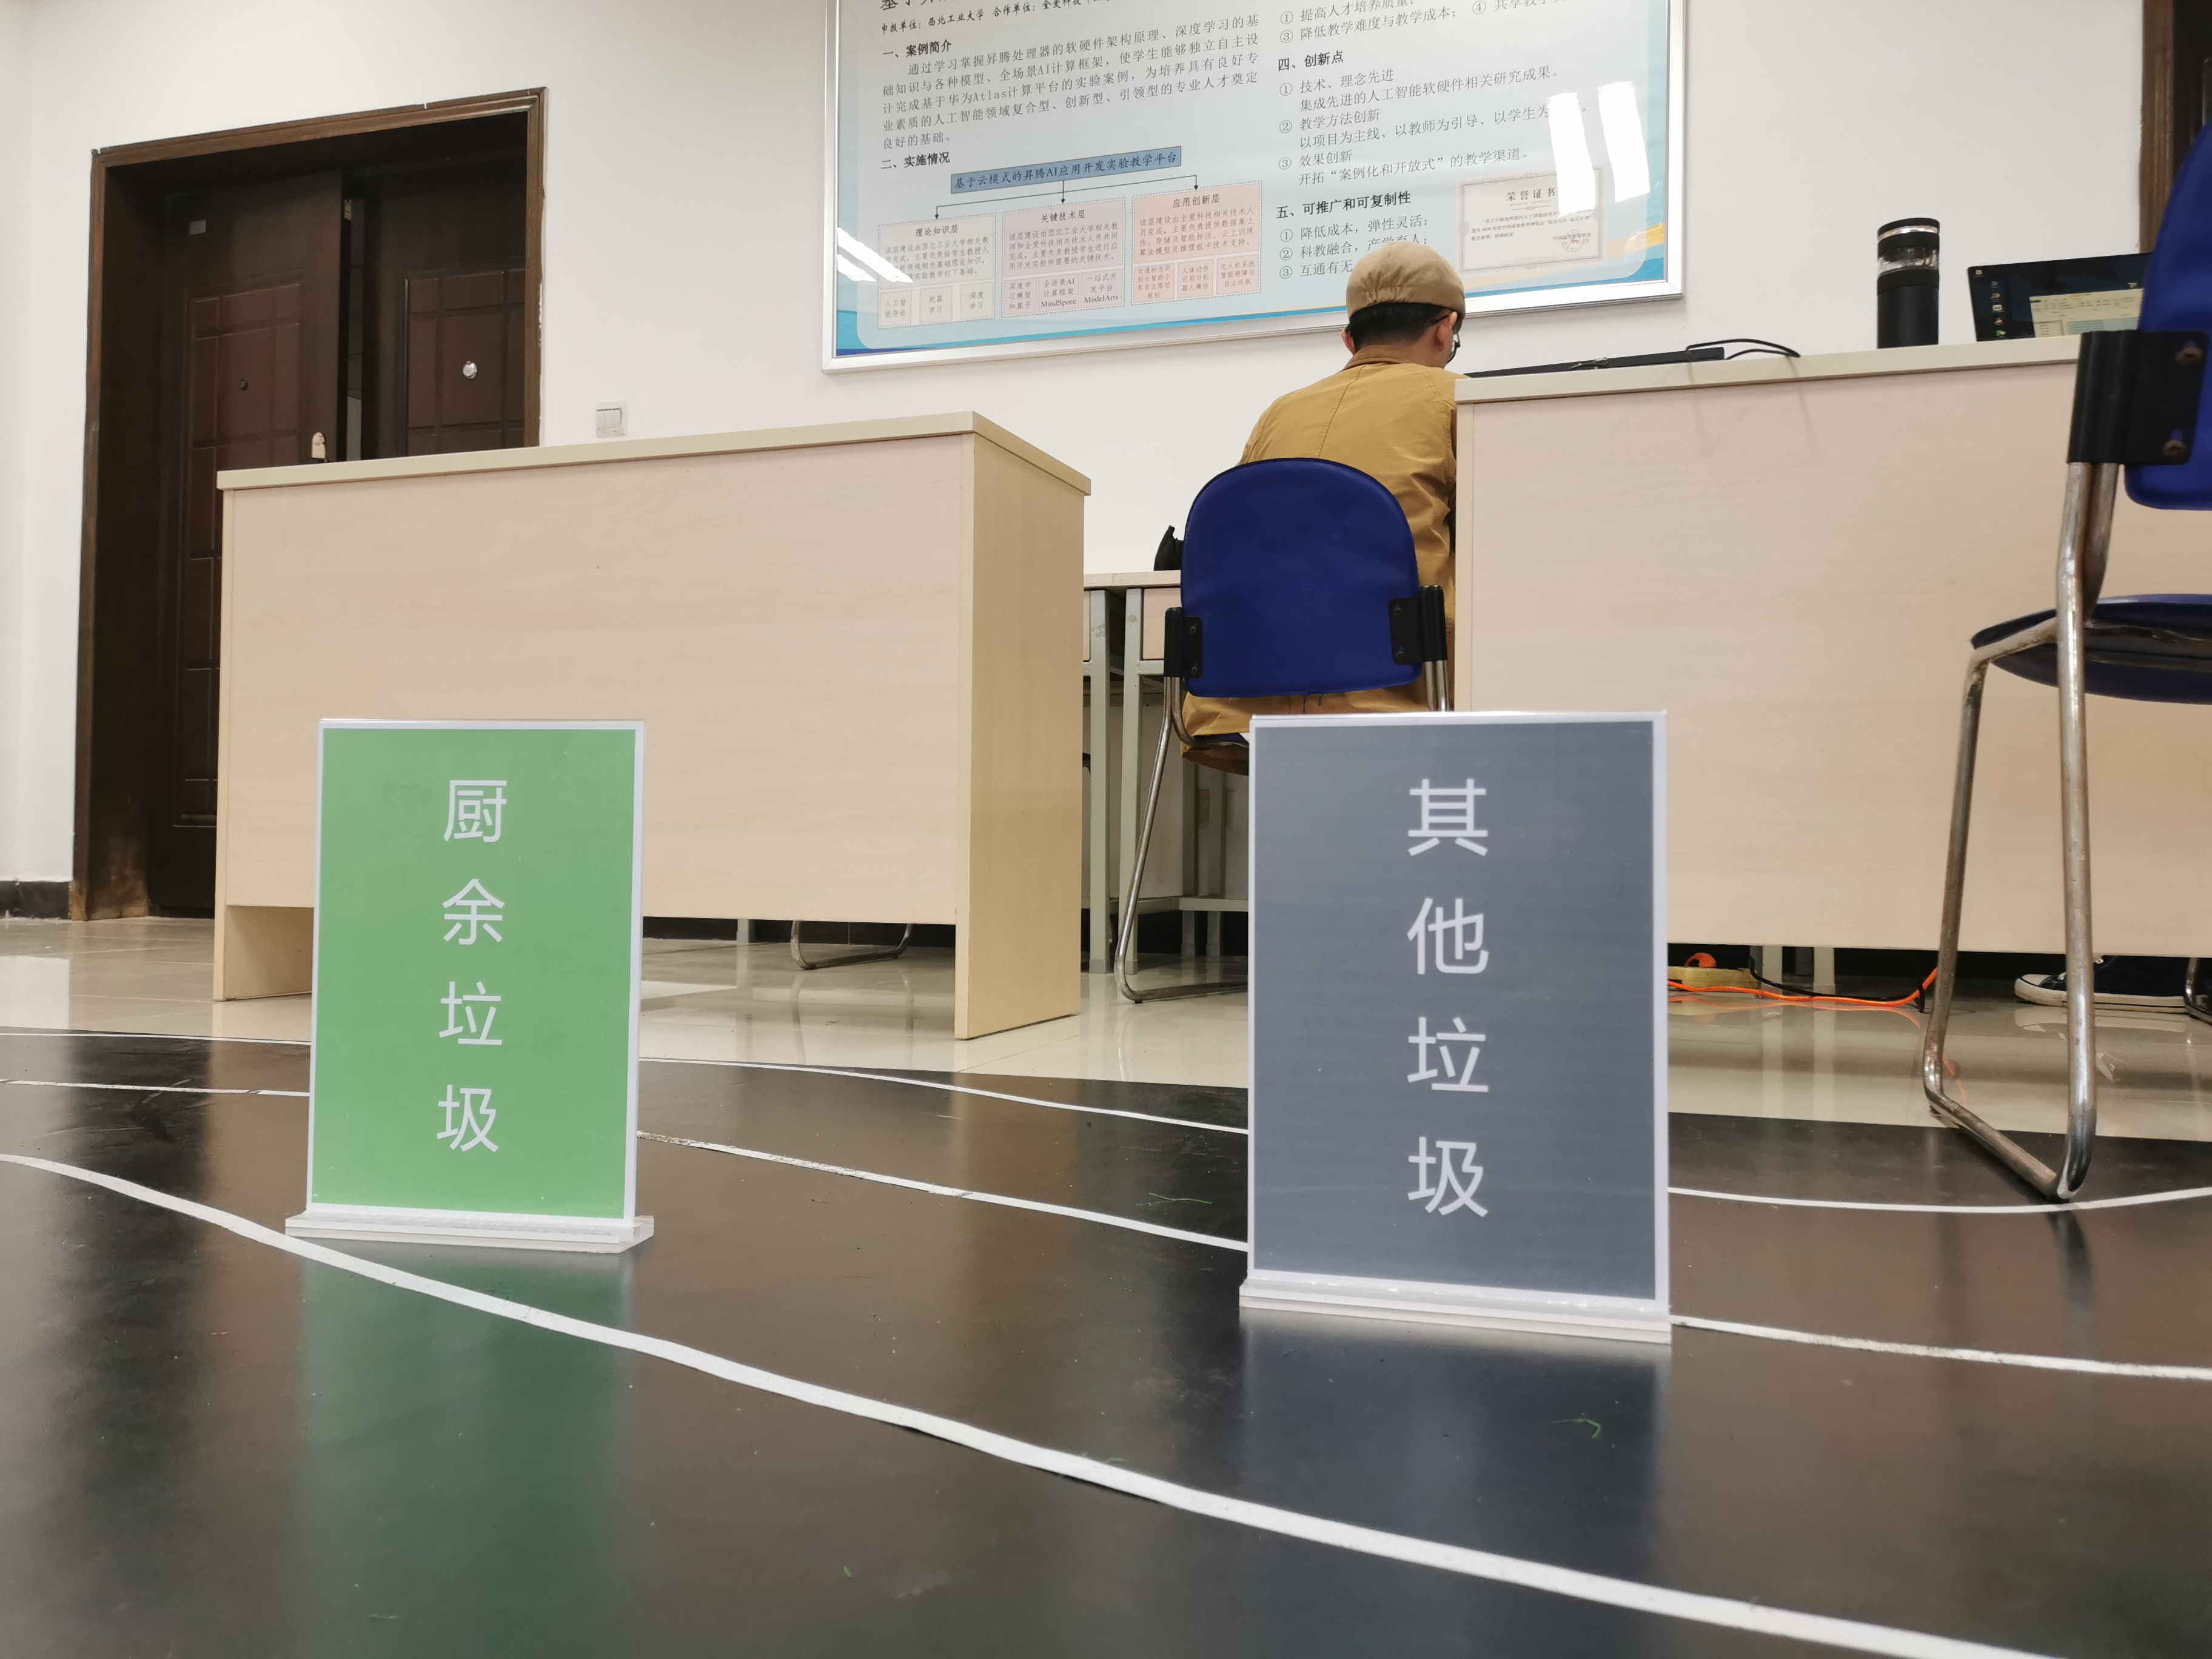black: (1261, 734, 1649, 1263)
green: (327, 737, 629, 1201)
